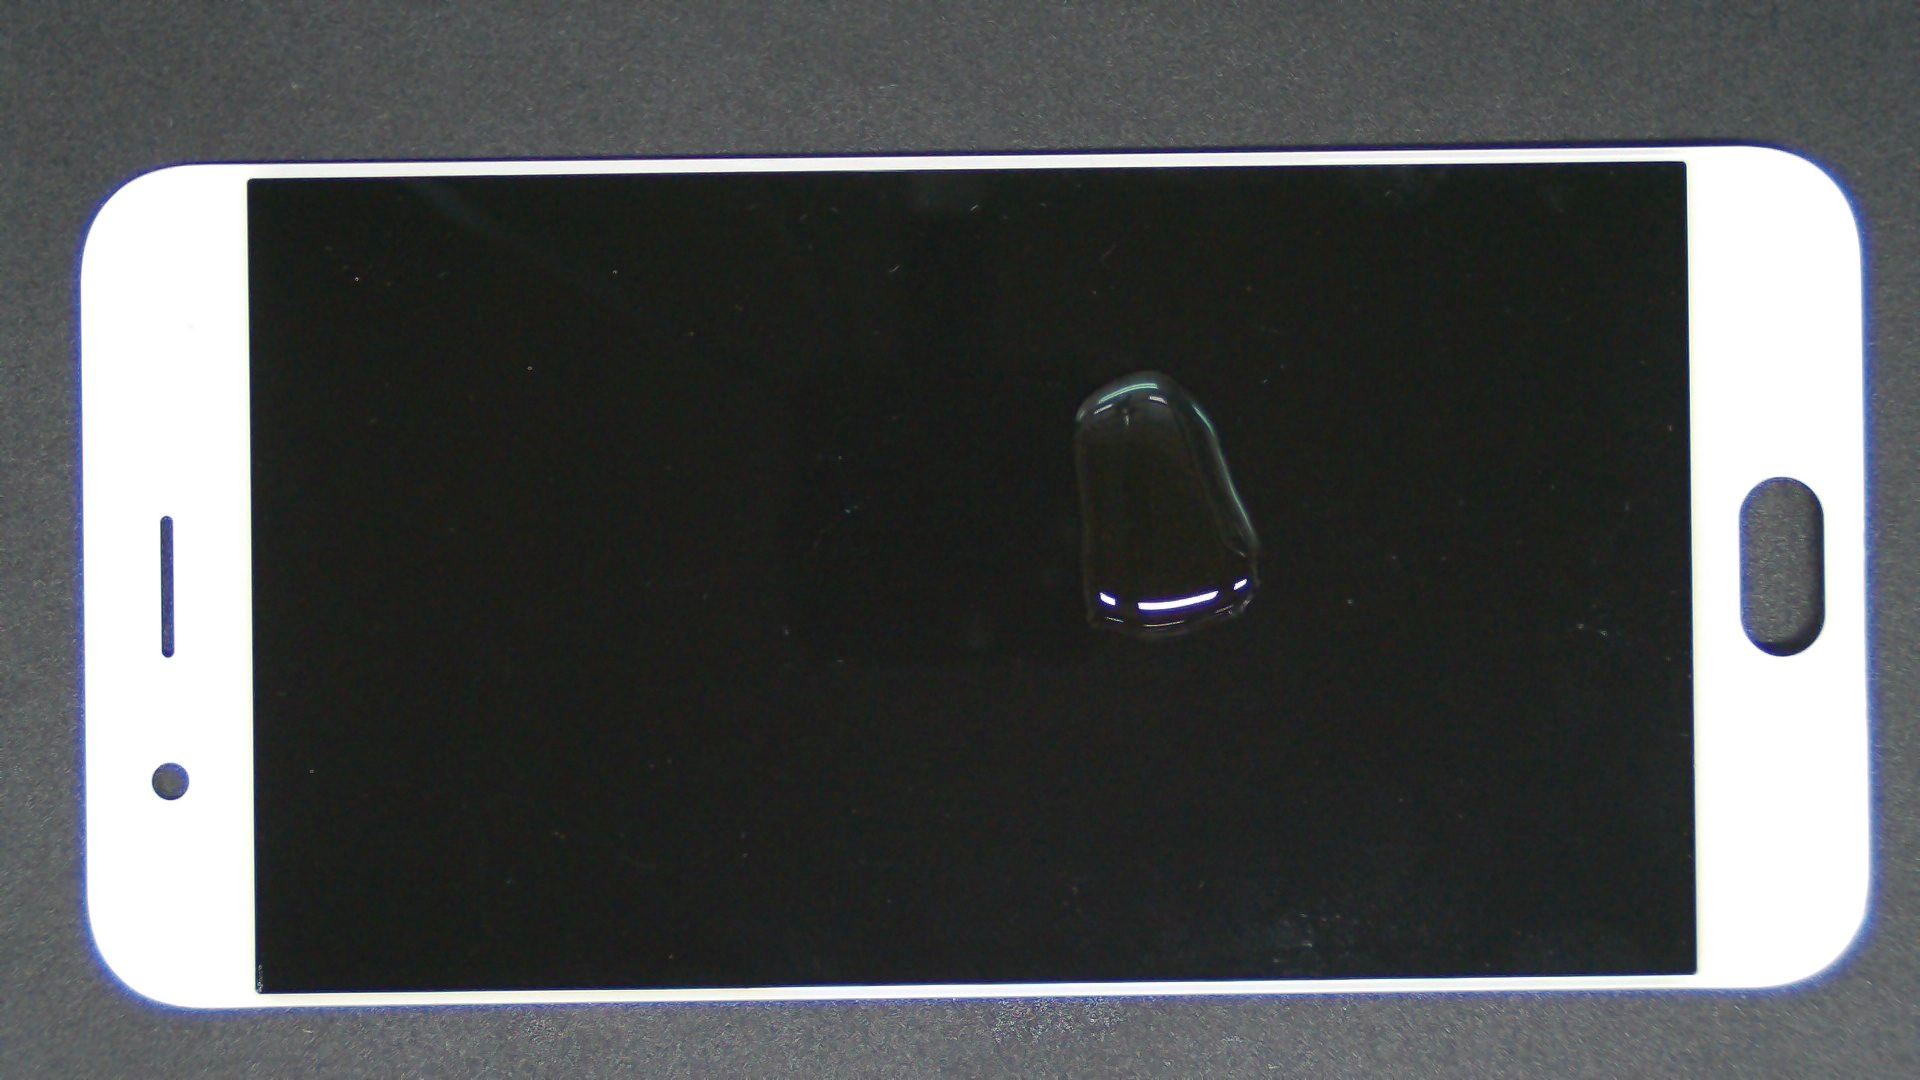oil: (575, 185, 1725, 555)
